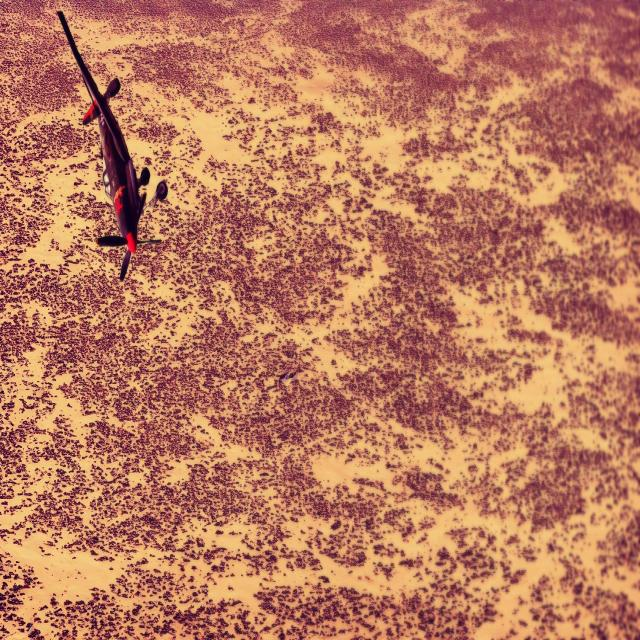airplane: (56, 8, 168, 282)
